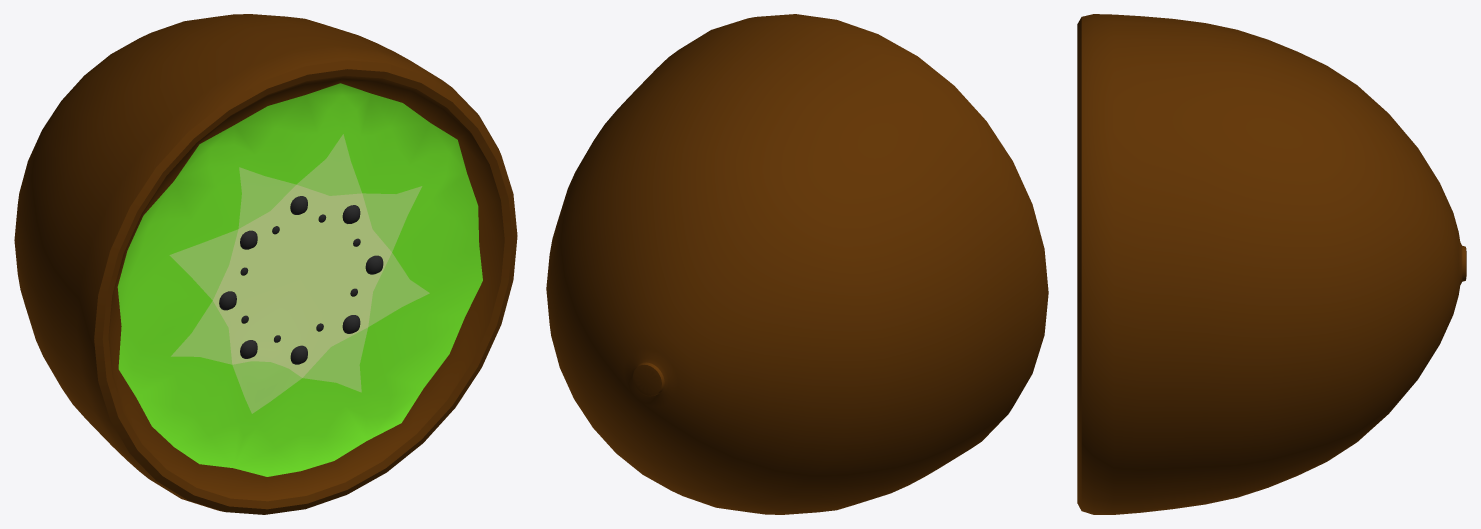
The model's file is Smooth_kiwis_0.fbx.
3 renders of one model, left to right at view 1: azimuth 30°, elevation 25°; view 2: azimuth 150°, elevation 25°; view 3: azimuth 270°, elevation 25°, orthographic.
Visible parts, largest first — view 1: Smooth_kiwis_0; view 2: Smooth_kiwis_0; view 3: Smooth_kiwis_0.
Boxes of the visible parts, x1,y1,x2,y2 form: Smooth_kiwis_0: (14, 14, 517, 514); Smooth_kiwis_0: (546, 14, 1048, 514); Smooth_kiwis_0: (1077, 14, 1466, 514).
Size of the model in its own units: 195 by 194 by 151.
